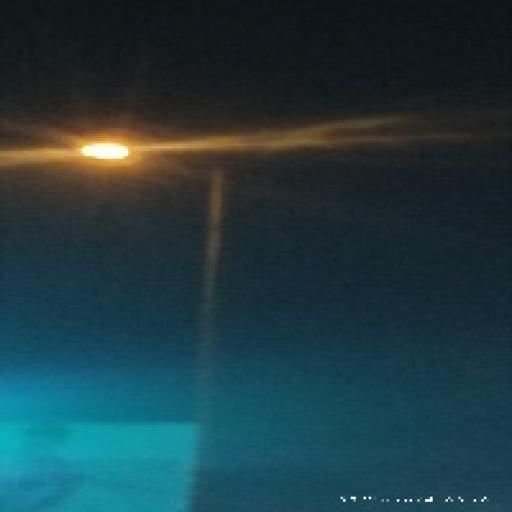Not Working: (68, 129, 137, 173)
